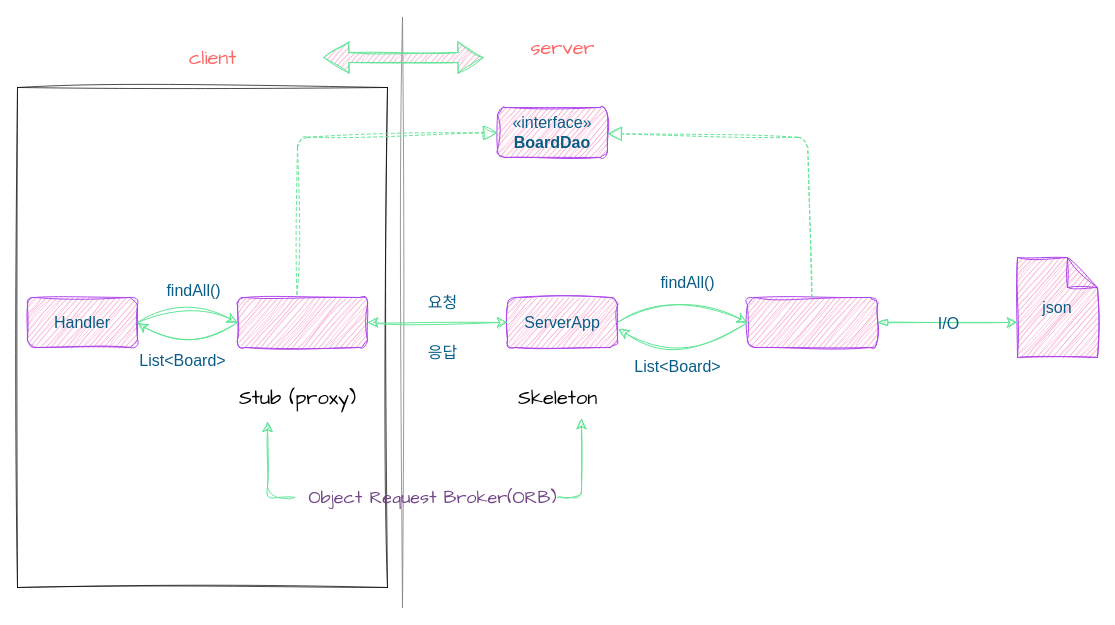
The diagram is 1115 pixels wide and 625 high, and some of its shapes have lost their labels. The centre of each missing label's shape, as x and y in pixels:
«json» BoardDaoImpl: the point at 812,322
«network» BoardDaoImpl: the point at 302,322
